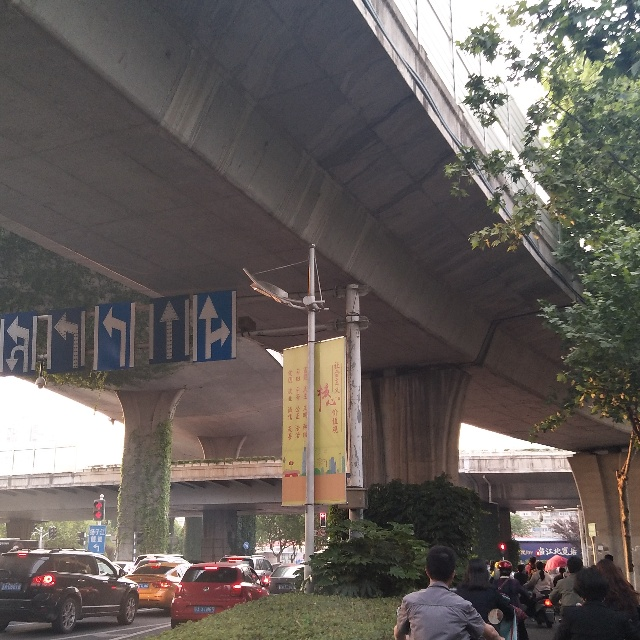left: (102, 307, 133, 371), (51, 318, 84, 369)
straight: (152, 297, 184, 366)
